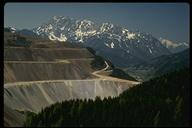mountain: (11, 11, 188, 62)
sky: (139, 5, 185, 29)
tree: (29, 94, 183, 125)
